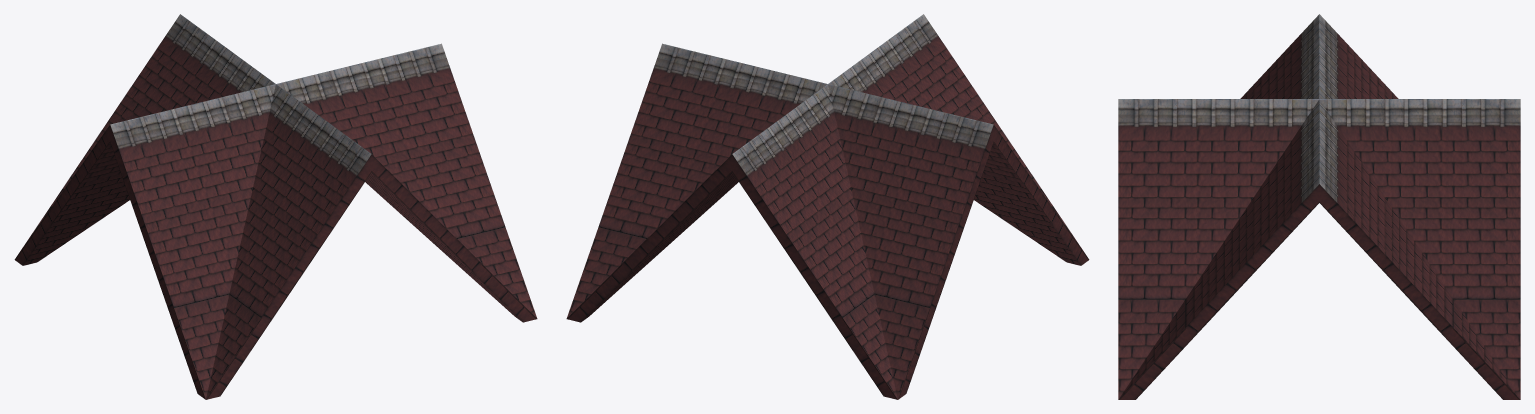
File: rooftop_cross_junction_01.glb
The picture shows the model from 3 angles, left to right: view 1: azimuth 30°, elevation 25°; view 2: azimuth 150°, elevation 25°; view 3: azimuth 270°, elevation 25°; orthographic projection. The views are drawn at different scales.
Visible parts, largest first — view 1: rooftop_cross_junction_01; view 2: rooftop_cross_junction_01; view 3: rooftop_cross_junction_01.
Part boxes in pixels (<box>): rooftop_cross_junction_01: <box>14,14,537,399</box>; rooftop_cross_junction_01: <box>566,14,1089,399</box>; rooftop_cross_junction_01: <box>1118,14,1520,399</box>.
Size of the model in its own units: 24 by 14.21 by 24.
Materials: 1 (1 with a texture image).
